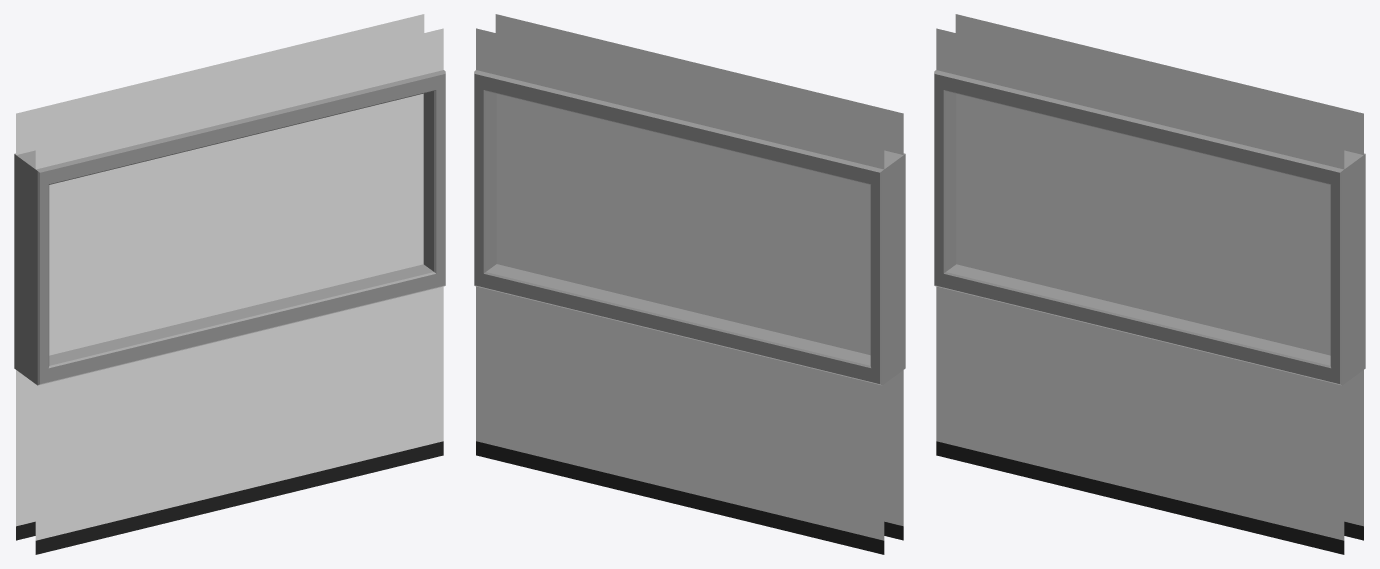
Rendered from interiorWindowWall_line_3_white.fbx.
3 renders of one model, left to right at view 1: azimuth 30°, elevation 25°; view 2: azimuth 150°, elevation 25°; view 3: azimuth 330°, elevation 25°, orthographic.
Visible parts, largest first — view 1: wall, glassWall; view 2: wall, glassWall; view 3: wall, glassWall.
Part boxes in pixels (left/top/right/bottom): wall: left=14, top=14, right=445, bottom=554; glassWall: left=49, top=93, right=423, bottom=355; wall: left=474, top=14, right=905, bottom=554; glassWall: left=496, top=94, right=870, bottom=355; wall: left=934, top=14, right=1365, bottom=554; glassWall: left=956, top=93, right=1330, bottom=355.
Size of the model in its own units: 300 by 300 by 31.96.
